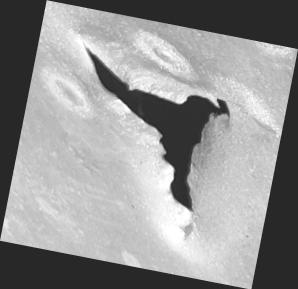crack: (1, 0, 298, 289)
